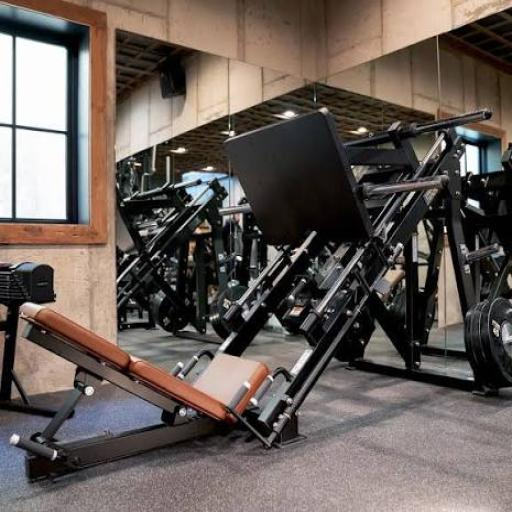Leg Press: (46, 122, 511, 446)
